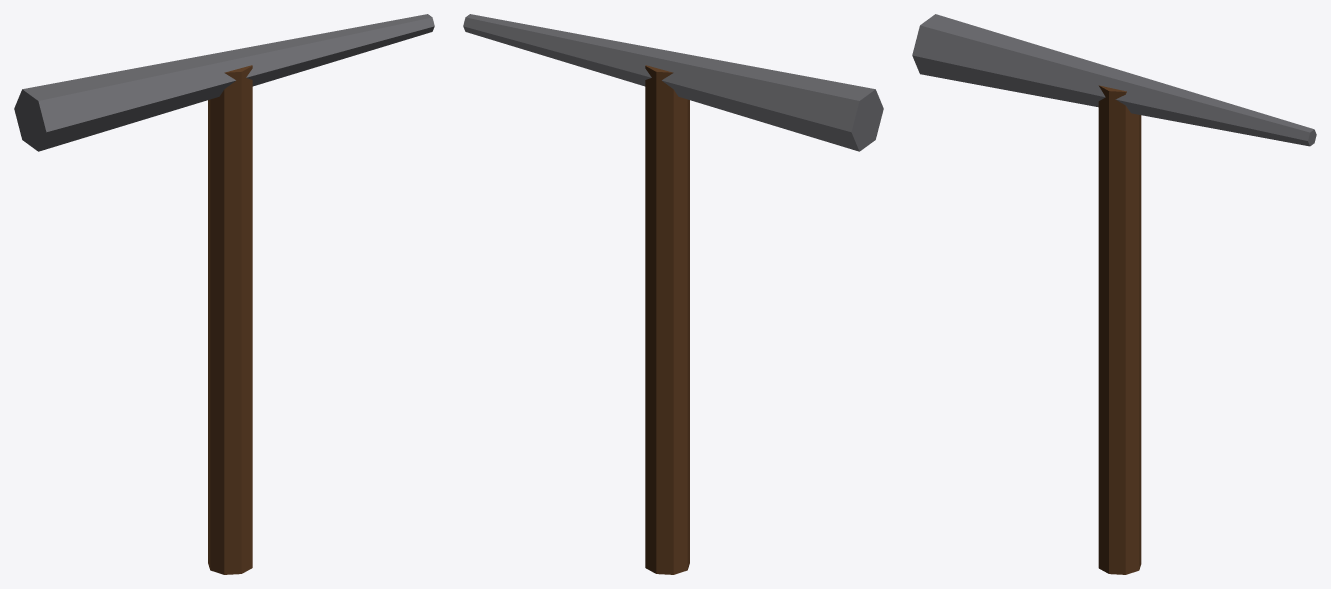
File: SM_GZ_tool_pickaxe.fbx
3 renders of one model, left to right at view 1: azimuth 30°, elevation 25°; view 2: azimuth 150°, elevation 25°; view 3: azimuth 330°, elevation 25°, orthographic. The views are drawn at different scales.
Visible parts, largest first — view 1: SM_GZ_tool_pickaxe; view 2: SM_GZ_tool_pickaxe; view 3: SM_GZ_tool_pickaxe.
Boxes of the visible parts, x1,y1,x2,y2 form: SM_GZ_tool_pickaxe: (14,14,434,574); SM_GZ_tool_pickaxe: (463,14,883,574); SM_GZ_tool_pickaxe: (912,14,1316,574).
Bounding box in the file's own units: 100 × 124 × 14.
